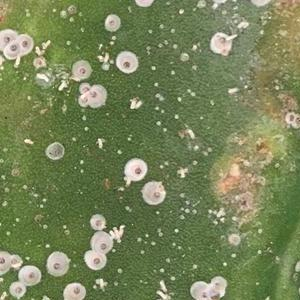Femea: (0, 30, 15, 47), (90, 87, 104, 105), (84, 253, 103, 266), (117, 56, 133, 71), (213, 33, 226, 51), (93, 235, 107, 251), (48, 254, 62, 270), (65, 286, 83, 297), (128, 162, 142, 176), (144, 188, 160, 200), (15, 36, 29, 49), (91, 215, 104, 228), (75, 65, 89, 76), (8, 43, 18, 55), (79, 95, 88, 106), (80, 84, 89, 94)
Linfa: (205, 207, 226, 219), (107, 34, 114, 46), (154, 92, 163, 101), (144, 27, 153, 35), (31, 190, 40, 198), (172, 224, 179, 233), (114, 267, 123, 274), (172, 112, 179, 120), (20, 182, 27, 190), (169, 68, 176, 75), (168, 27, 175, 34), (189, 43, 196, 50), (182, 207, 189, 214), (115, 148, 122, 155), (76, 158, 83, 165), (163, 159, 170, 166), (157, 266, 163, 274), (155, 119, 161, 126), (177, 8, 184, 14), (156, 41, 162, 48), (150, 239, 156, 246), (152, 210, 160, 215), (139, 248, 144, 256), (41, 195, 46, 203), (157, 22, 163, 28), (80, 113, 86, 119), (222, 261, 228, 267), (157, 163, 163, 169), (176, 96, 181, 103), (150, 65, 157, 70), (178, 214, 185, 219), (142, 233, 149, 238), (82, 125, 87, 132), (165, 256, 170, 263), (152, 81, 158, 86), (191, 208, 197, 213), (190, 91, 196, 96), (39, 202, 44, 208), (79, 167, 84, 173), (162, 126, 167, 132), (155, 105, 160, 111), (44, 242, 49, 248), (136, 237, 141, 242), (172, 43, 176, 49)
Macho: (32, 72, 50, 82), (184, 126, 196, 140), (176, 167, 186, 180), (156, 279, 165, 293), (118, 223, 125, 240), (96, 136, 105, 149), (41, 38, 51, 49), (225, 86, 239, 93), (21, 136, 35, 143), (13, 54, 20, 66), (56, 89, 69, 95), (32, 44, 39, 55), (223, 37, 238, 42), (129, 97, 135, 109), (139, 98, 144, 110), (154, 299, 163, 300)
